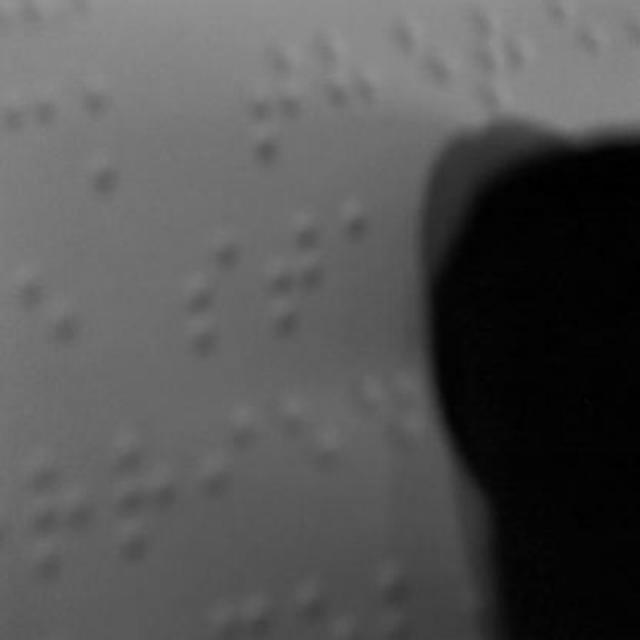braiile: (197, 393, 267, 542), (21, 429, 90, 573), (109, 418, 181, 556), (316, 22, 388, 158), (277, 380, 347, 518), (362, 349, 428, 489), (16, 254, 82, 384), (79, 73, 149, 194), (244, 33, 308, 165), (342, 192, 404, 324), (264, 213, 326, 339), (182, 228, 242, 358), (1, 80, 67, 196)
